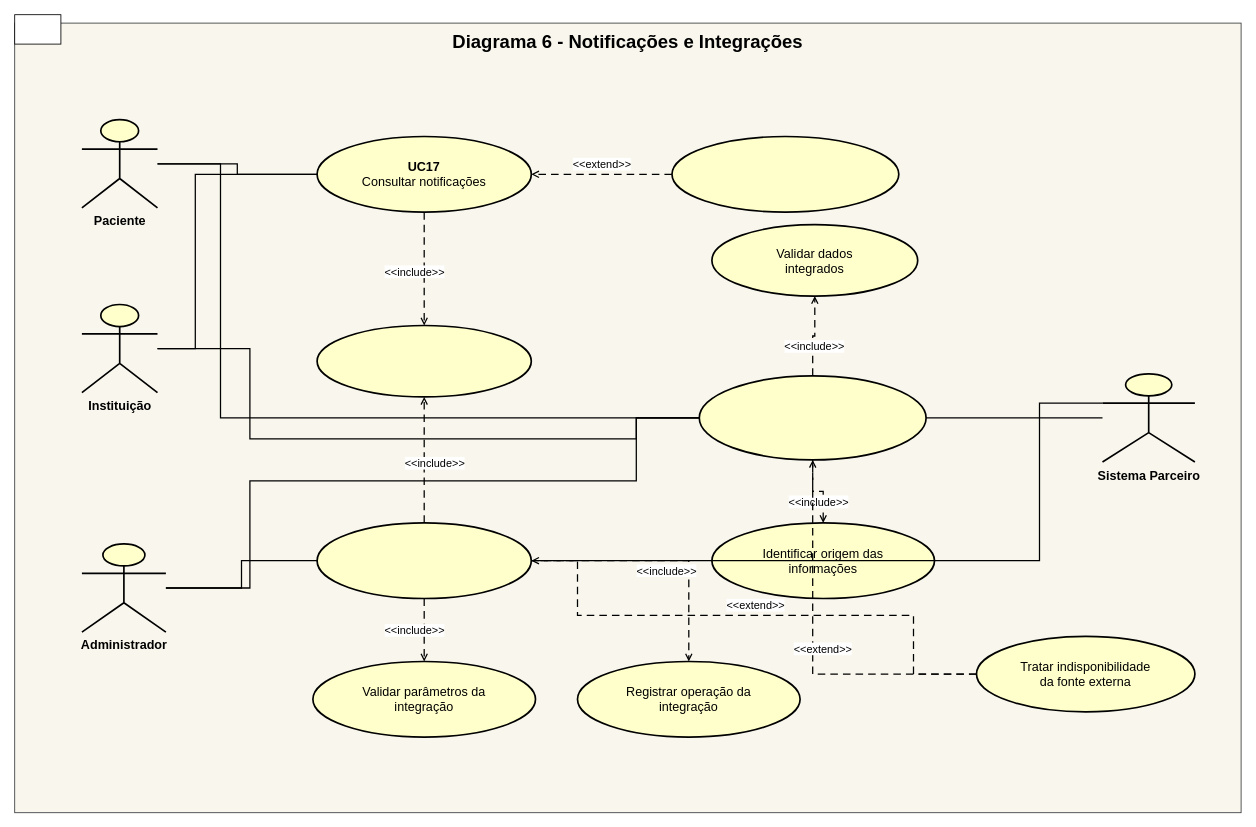
This 1256x827 diagram has some shape labels left out. Here are the shapes that lost their labels. From the top down, the box of each, then its label:
(14, 14, 61, 44): uc
(671, 135, 899, 213): Informar ausência de notificações
(316, 324, 532, 397): UC02 Autenticar usuário
(698, 375, 927, 460): UC20 Consultar informações integradas
(316, 522, 532, 599): UC19 Gerenciar integrações
